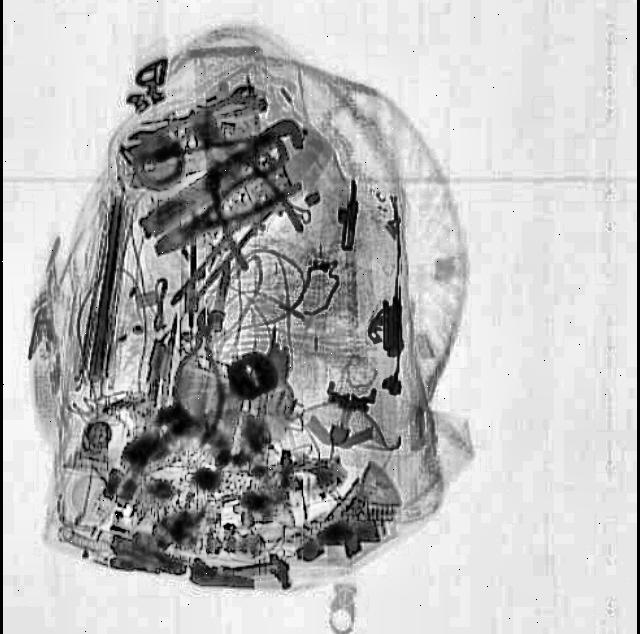Pliers: (148, 149, 306, 272), (166, 308, 236, 446)
Wrench: (124, 81, 262, 159)
